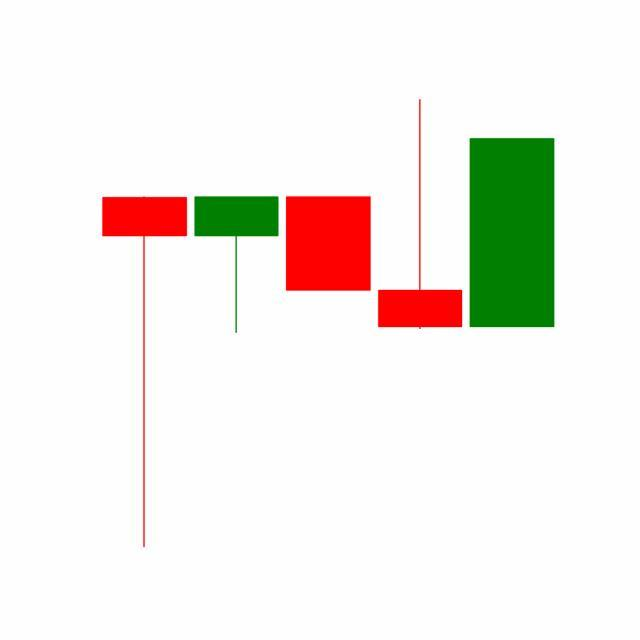Marubozu: (466, 137, 559, 330)
